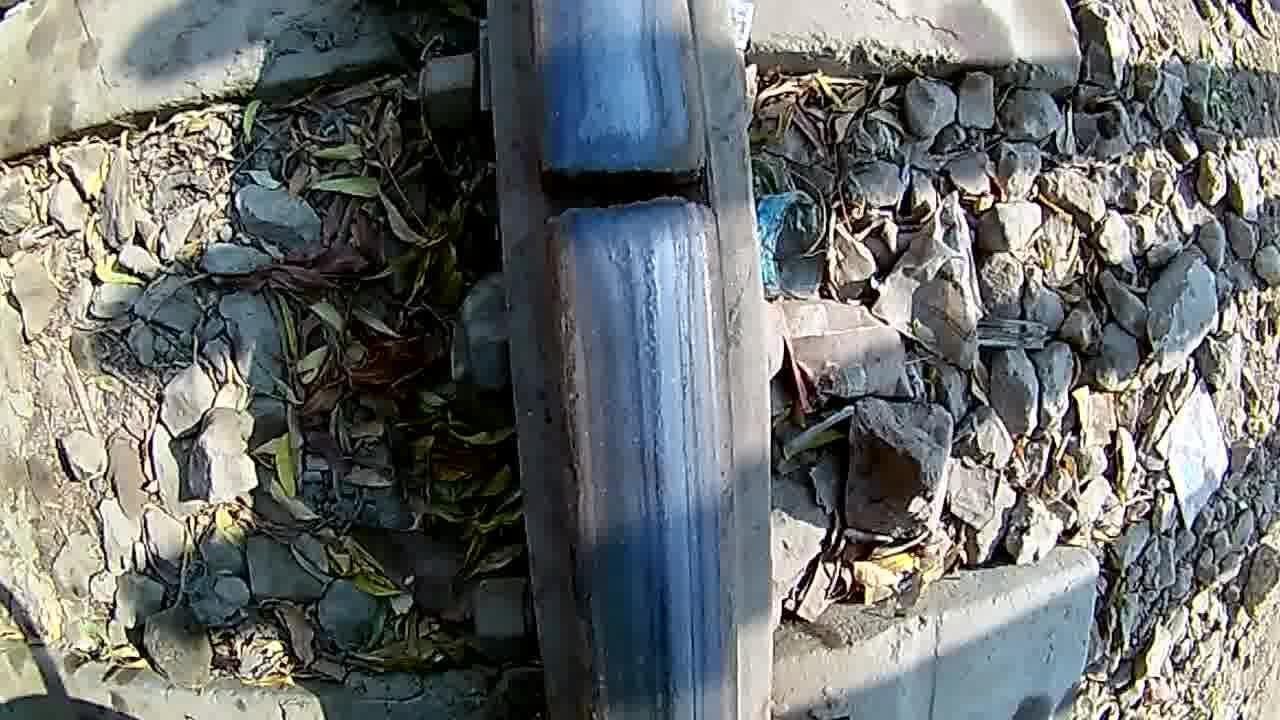crack: (512, 96, 712, 297)
